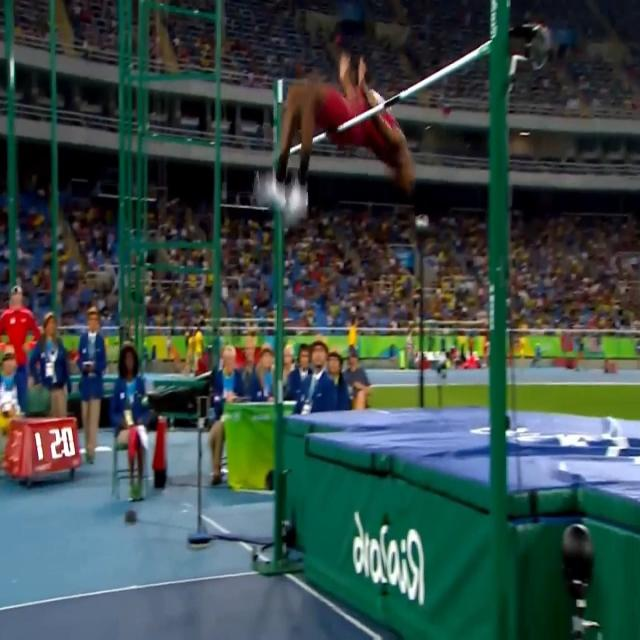jump: (254, 51, 418, 229)
